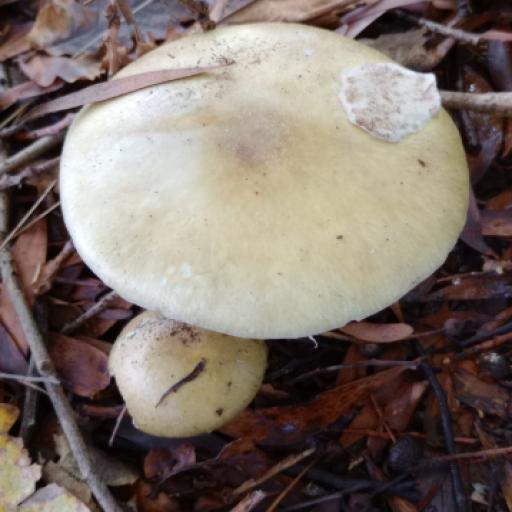Death Cap: (60, 20, 478, 332), (111, 312, 280, 448)
